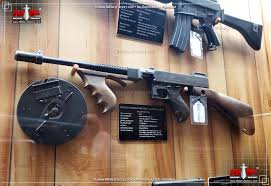gun: (12, 47, 257, 136)
